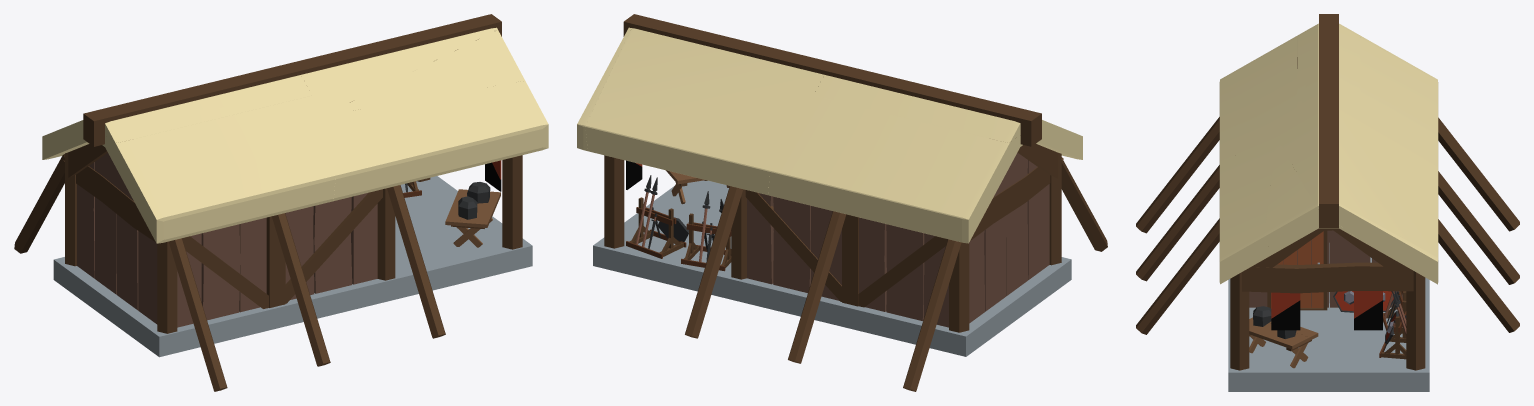
File: ExplodedBarracks.fbx
3 renders of one model, left to right at view 1: azimuth 30°, elevation 25°; view 2: azimuth 150°, elevation 25°; view 3: azimuth 270°, elevation 25°, orthographic. The views are drawn at different scales.
Visible parts, largest first — view 1: Barracks.019_cell.004, Barracks.019_cell, Barracks.029, Barracks.001, Barracks.019_cell.003, Barracks.019_cell.005, Barracks.019_cell.002, Barracks.009, Barracks.014, Barracks.058, Barracks.059, Barracks.060 (+19 smaller); view 2: Barracks.019_cell.005, Barracks.019_cell.004, Barracks.029, Barracks.001, Barracks.019_cell.002, Barracks.008, Barracks.013, Barracks.020, Barracks.063, Barracks.061, Barracks.062, Barracks.010 (+17 smaller); view 3: Barracks.019_cell.004, Barracks.029, Barracks.019_cell.005, Barracks.019_cell, Barracks.024, Barracks.001, Barracks.019_cell.002, Barracks.019_cell.003, Barracks.019_cell.001, Barracks.060, Barracks.058, Barracks.059 (+14 smaller).
Part boxes in pixels (bbox=[...]): Barracks.019_cell.004: bbox=[42, 95, 335, 243]; Barracks.019_cell: bbox=[324, 81, 548, 201]; Barracks.029: bbox=[53, 176, 532, 357]; Barracks.001: bbox=[83, 14, 501, 146]; Barracks.019_cell.003: bbox=[323, 30, 525, 115]; Barracks.019_cell.005: bbox=[301, 28, 494, 115]; Barracks.019_cell.002: bbox=[105, 75, 311, 142]; Barracks.009: bbox=[201, 224, 240, 320]; Barracks.014: bbox=[313, 197, 352, 293]; Barracks.058: bbox=[168, 238, 227, 391]; Barracks.059: bbox=[272, 213, 330, 366]; Barracks.060: bbox=[387, 185, 445, 338]; Barracks.019_cell.005: bbox=[585, 28, 824, 194]; Barracks.019_cell.004: bbox=[768, 95, 1082, 243]; Barracks.029: bbox=[593, 180, 1071, 356]; Barracks.001: bbox=[623, 14, 1041, 146]; Barracks.019_cell.002: bbox=[813, 75, 1020, 142]; Barracks.008: bbox=[886, 224, 924, 321]; Barracks.013: bbox=[773, 196, 810, 292]; Barracks.020: bbox=[1006, 152, 1028, 295]; Barracks.063: bbox=[903, 239, 961, 391]; Barracks.061: bbox=[685, 186, 743, 338]; Barracks.062: bbox=[788, 211, 846, 363]; Barracks.010: bbox=[859, 217, 886, 311]; Barracks.019_cell.004: bbox=[1219, 35, 1438, 171]; Barracks.029: bbox=[1228, 243, 1429, 391]; Barracks.019_cell.005: bbox=[1277, 114, 1438, 257]; Barracks.019_cell: bbox=[1219, 138, 1276, 284]; Barracks.024: bbox=[1242, 262, 1413, 293]; Barracks.001: bbox=[1319, 14, 1338, 228]; Barracks.019_cell.002: bbox=[1297, 23, 1360, 125]; Barracks.019_cell.003: bbox=[1264, 138, 1356, 254]; Barracks.019_cell.001: bbox=[1315, 204, 1438, 284]; Barracks.060: bbox=[1136, 218, 1219, 334]; Barracks.058: bbox=[1136, 117, 1219, 233]; Barracks.059: bbox=[1136, 165, 1219, 281].
Bounding box in the file's own units: 2324 × 1154 × 1985.
